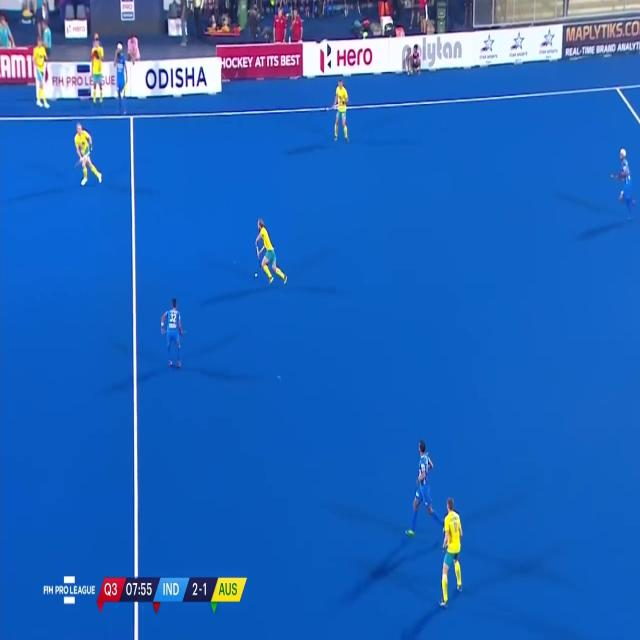ball: (250, 267, 262, 285)
